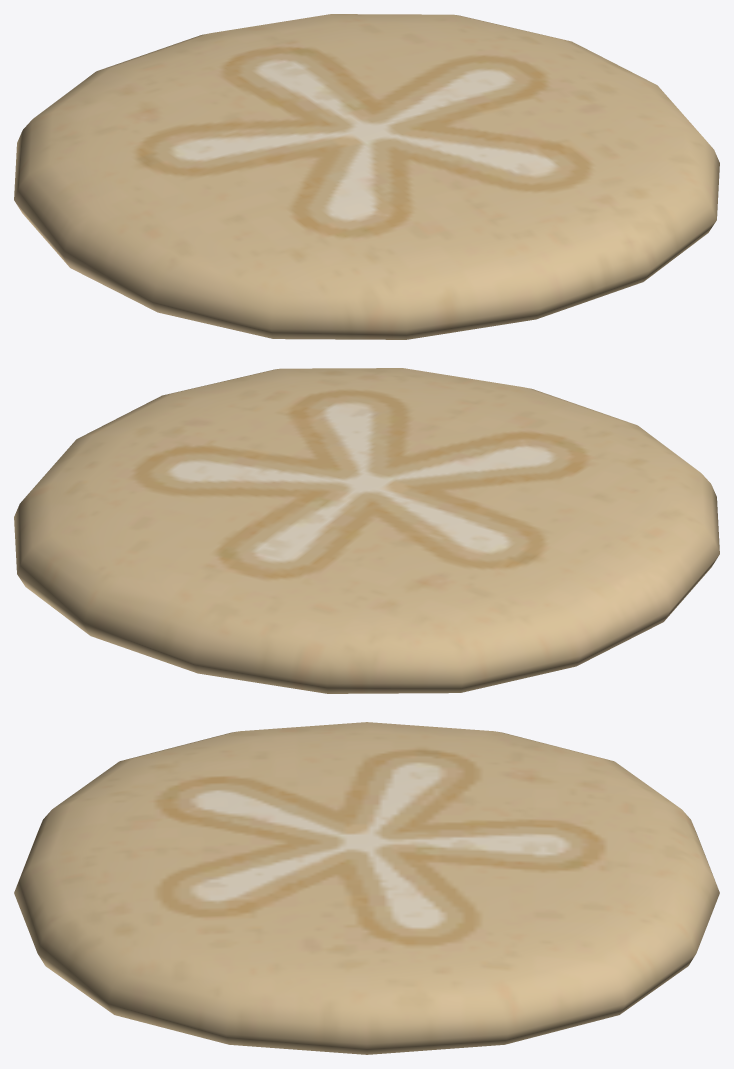
The model's file is SandDollar_Shell.fbx.
3 views of the same model, one above another, from view 1: azimuth 30°, elevation 25°; view 2: azimuth 150°, elevation 25°; view 3: azimuth 270°, elevation 25° (orthographic).
Visible parts, largest first — view 1: BugBook; view 2: BugBook; view 3: BugBook.
Boxes of the visible parts, bbox=[...] form: BugBook: bbox=[14, 14, 719, 339]; BugBook: bbox=[14, 368, 719, 693]; BugBook: bbox=[14, 722, 719, 1054].
Bounding box in the file's own units: 0.7725 × 0.1158 × 0.7628.
